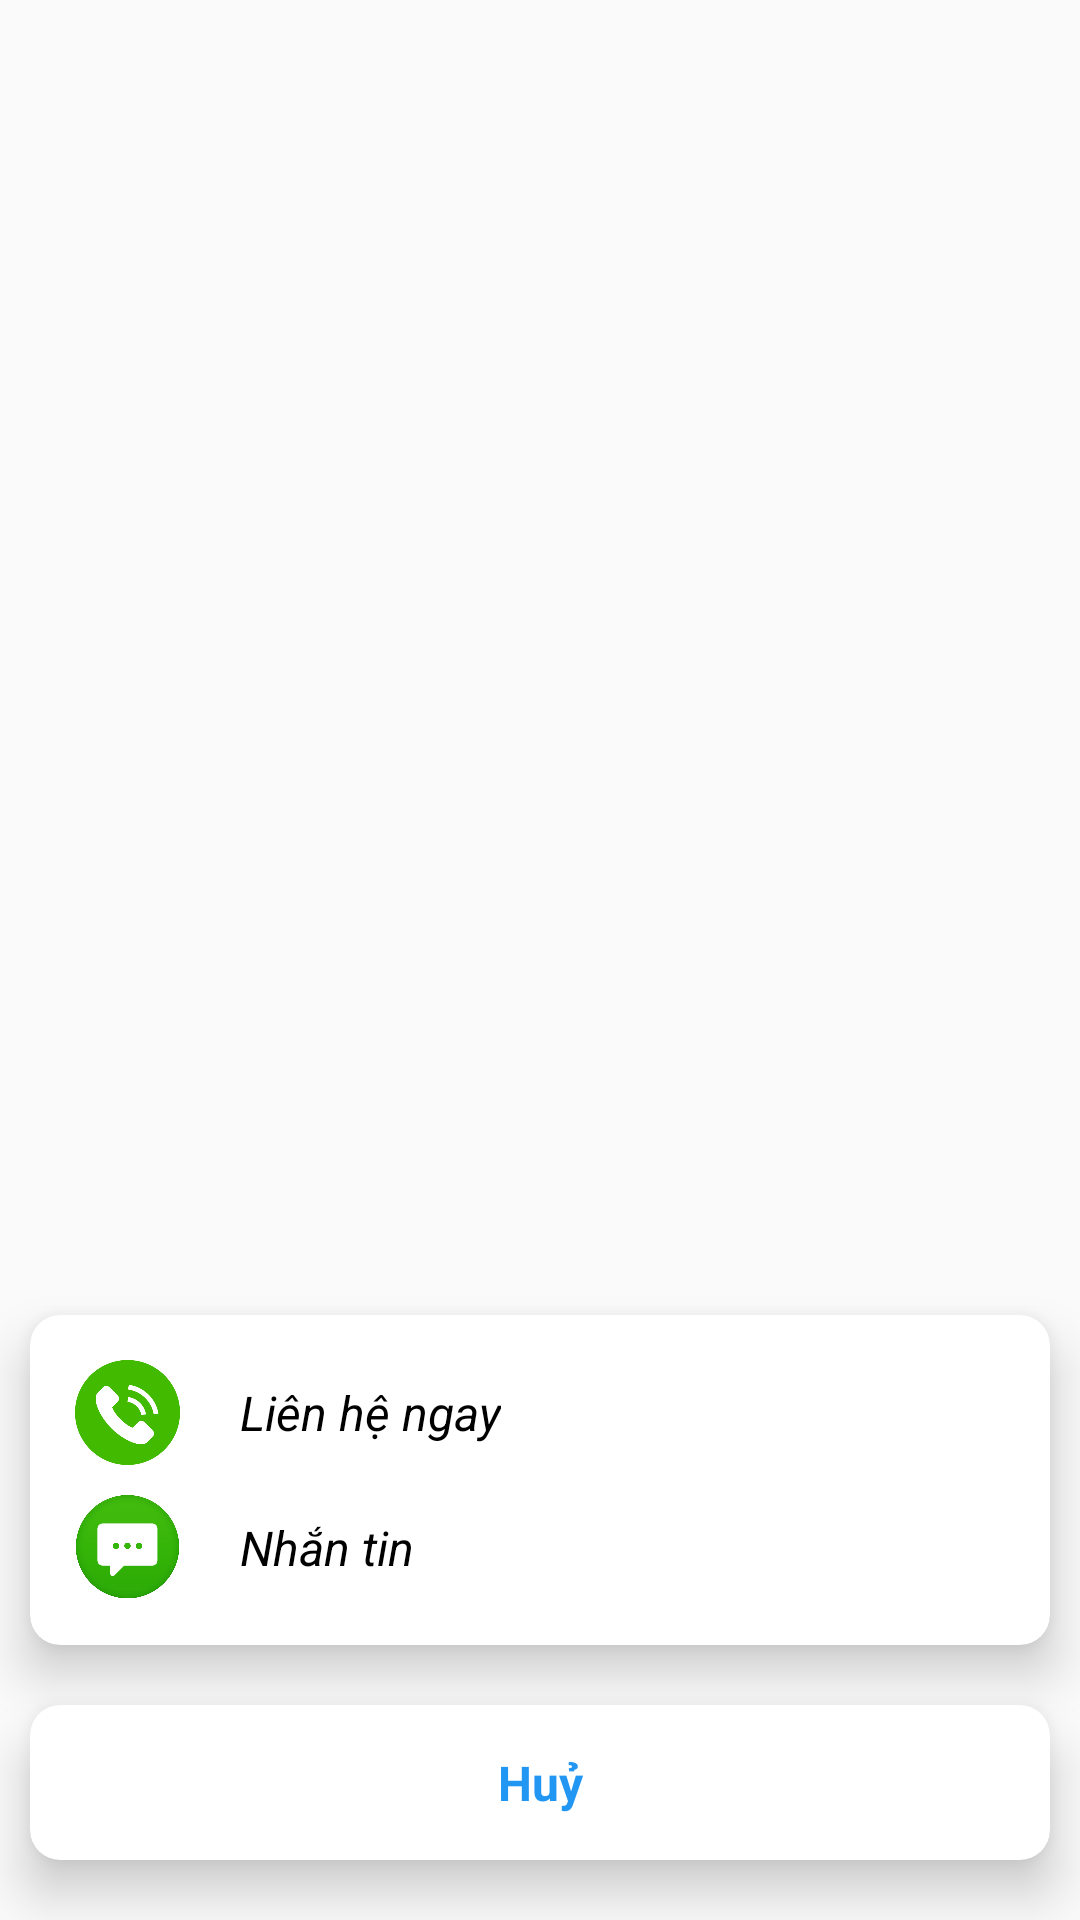

Where icons sit on this 1080px×1920px app screen, as (x1, y1, x2, y2):
call: (75, 1360, 180, 1465)
tinnhan: (76, 1495, 179, 1598)
